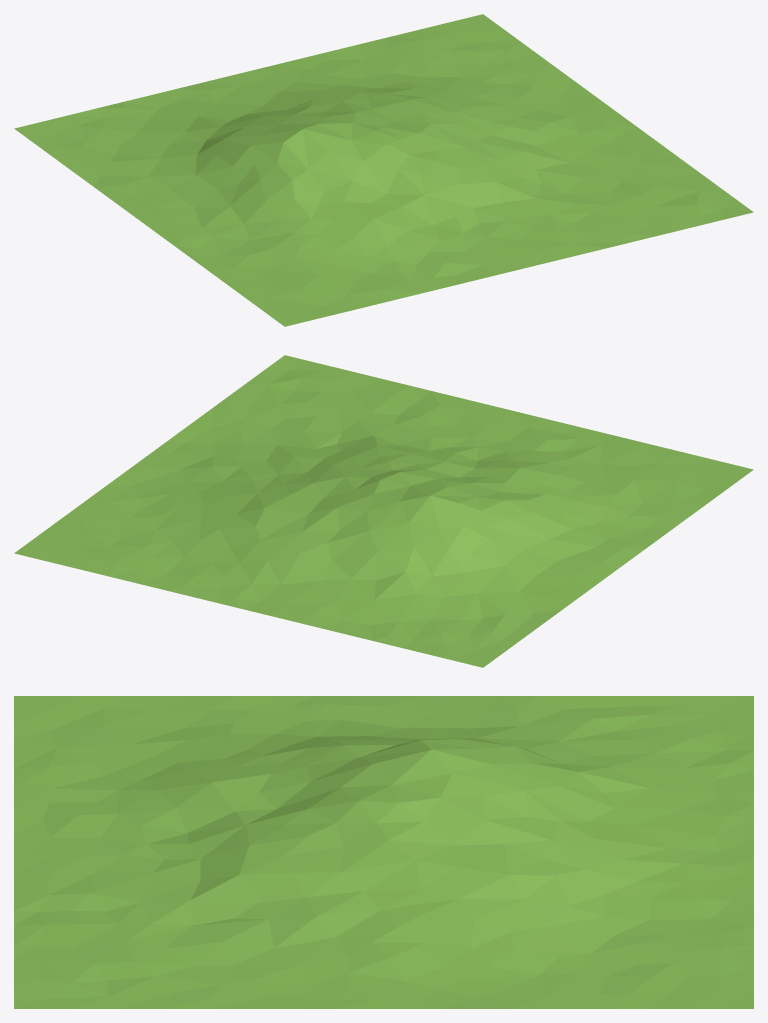
File: MT_Terrain_M_a_09.fbx
3 renders of one model, top to bottom at view 1: azimuth 30°, elevation 25°; view 2: azimuth 150°, elevation 25°; view 3: azimuth 270°, elevation 25°, orthographic. The views are drawn at different scales.
Parts seen in each view (by area): view 1: MT_Terrain_M_a_09; view 2: MT_Terrain_M_a_09; view 3: MT_Terrain_M_a_09.
Boxes of the visible parts, bbox=[...] form: MT_Terrain_M_a_09: bbox=[14, 14, 753, 326]; MT_Terrain_M_a_09: bbox=[14, 355, 753, 667]; MT_Terrain_M_a_09: bbox=[14, 696, 753, 1008].
Bounding box in the file's own units: 5000 × 458 × 5000.
